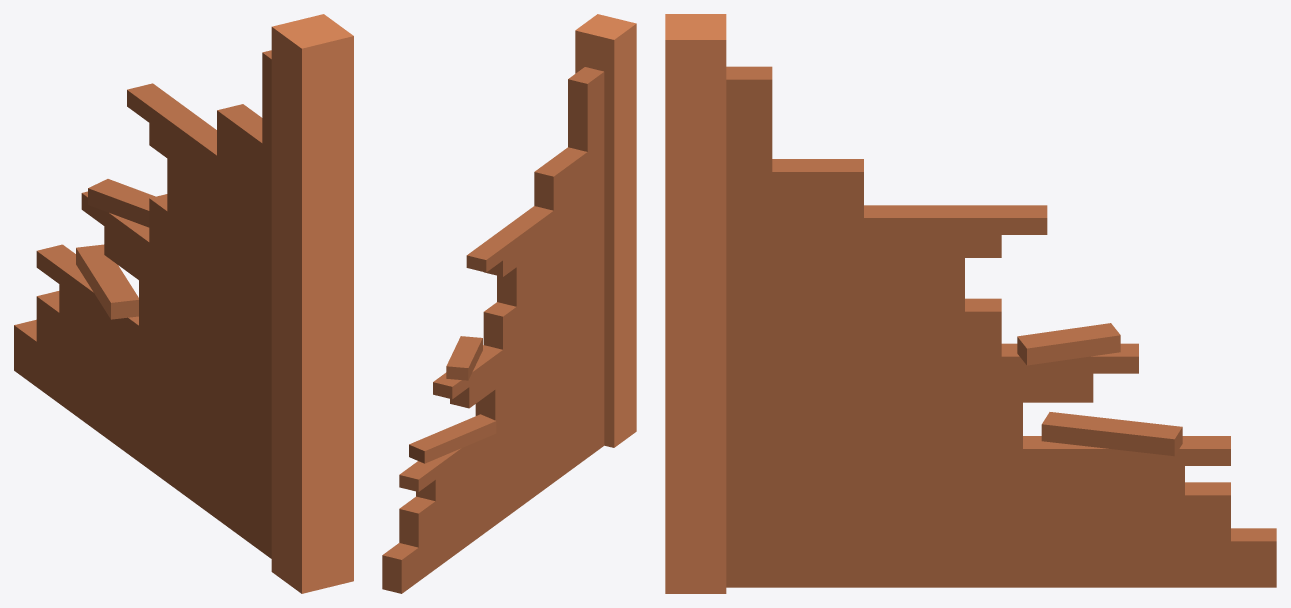
Rendered from wallWoodBroken.fbx.
3 renders of one model, left to right at view 1: azimuth 30°, elevation 25°; view 2: azimuth 150°, elevation 25°; view 3: azimuth 270°, elevation 25°, orthographic. The views are drawn at different scales.
Parts seen in each view (by area): view 1: wallWoodBroken; view 2: wallWoodBroken; view 3: wallWoodBroken.
Part boxes in pixels (x1=…): wallWoodBroken: x1=14, y1=14, x2=353, y2=593; wallWoodBroken: x1=382, y1=14, x2=636, y2=593; wallWoodBroken: x1=665, y1=14, x2=1276, y2=593.
Bounding box in the file's own units: 1.13 × 10 × 10.
